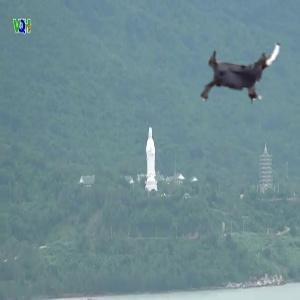drone: (192, 27, 286, 121)
